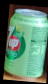sevenup: (4, 8, 48, 81)
